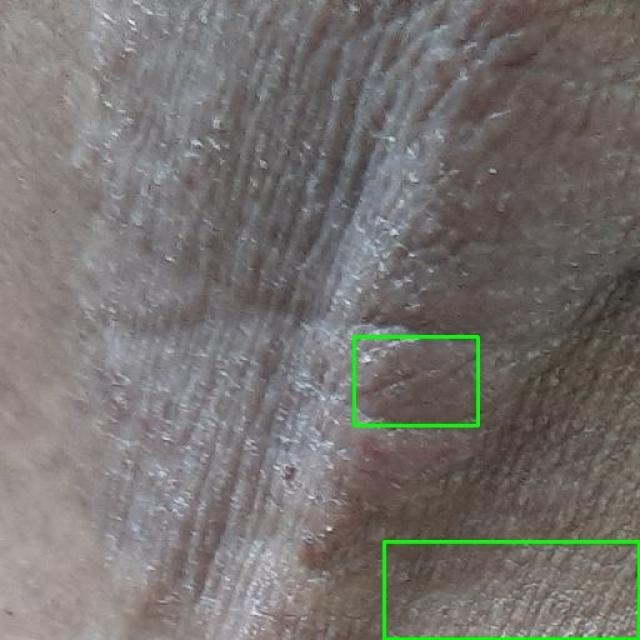Tinea Corporis: (384, 541, 639, 639), (354, 336, 478, 425)
